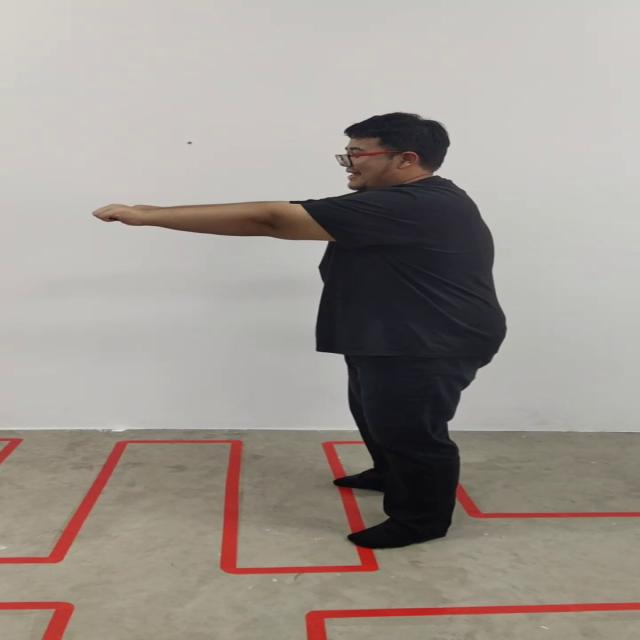stand: (94, 112, 508, 550)
